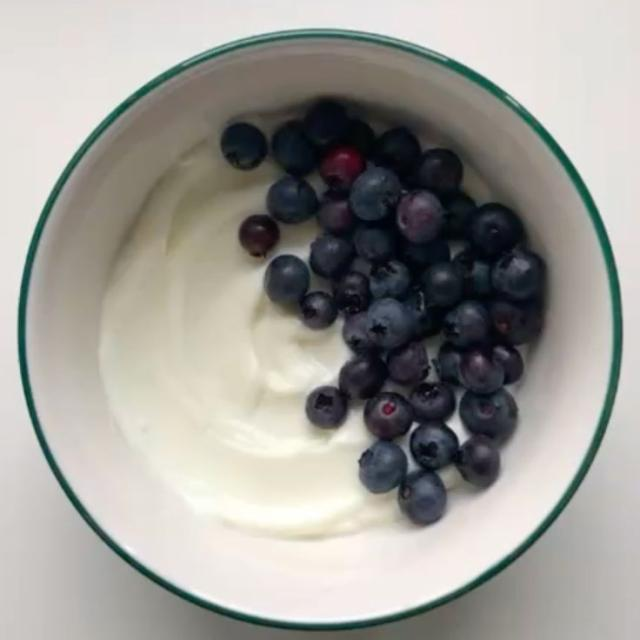blueberry: (460, 388, 518, 441), (468, 203, 523, 257), (350, 167, 401, 221), (492, 248, 545, 299), (399, 470, 446, 524), (272, 120, 317, 176), (397, 191, 445, 243), (359, 441, 407, 493), (267, 175, 318, 223), (410, 421, 459, 470), (489, 300, 542, 345), (367, 298, 414, 348), (364, 392, 413, 439), (374, 127, 420, 176), (265, 255, 310, 305), (456, 435, 499, 487), (443, 301, 491, 347), (220, 123, 266, 170), (414, 149, 463, 193), (339, 354, 386, 399), (304, 100, 348, 147), (320, 147, 364, 193), (460, 349, 504, 393), (404, 289, 443, 338), (310, 234, 353, 278), (387, 341, 430, 384), (421, 263, 463, 306), (239, 214, 279, 257), (454, 251, 491, 297), (306, 387, 347, 428), (410, 383, 455, 420), (400, 239, 450, 272), (354, 224, 397, 262), (334, 271, 371, 315), (370, 260, 411, 299), (442, 192, 476, 239), (300, 292, 338, 329), (317, 198, 355, 235), (343, 313, 377, 353), (493, 345, 524, 384), (344, 119, 375, 158), (436, 343, 461, 385)
